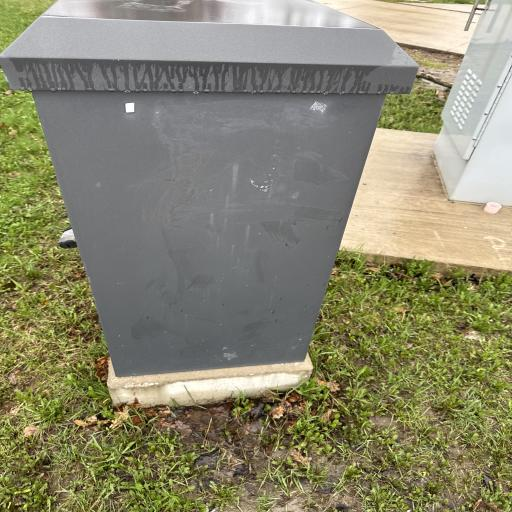Electrical Box: (1, 0, 421, 409)
